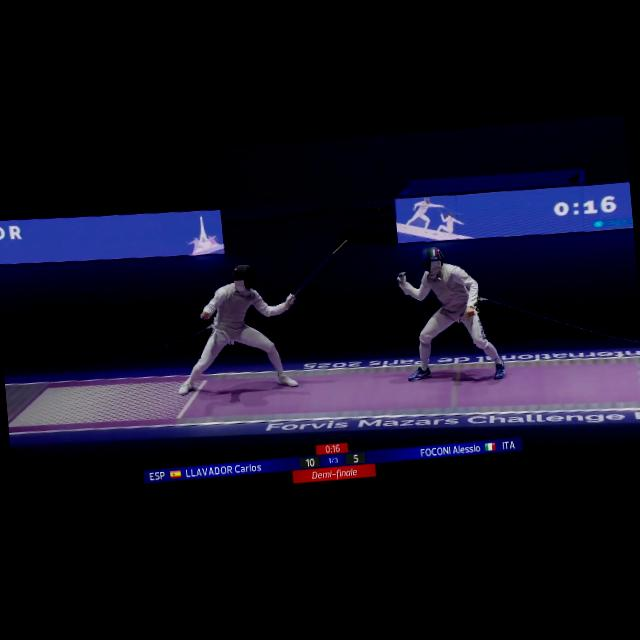blade: (280, 234, 356, 304), (371, 194, 411, 284)
